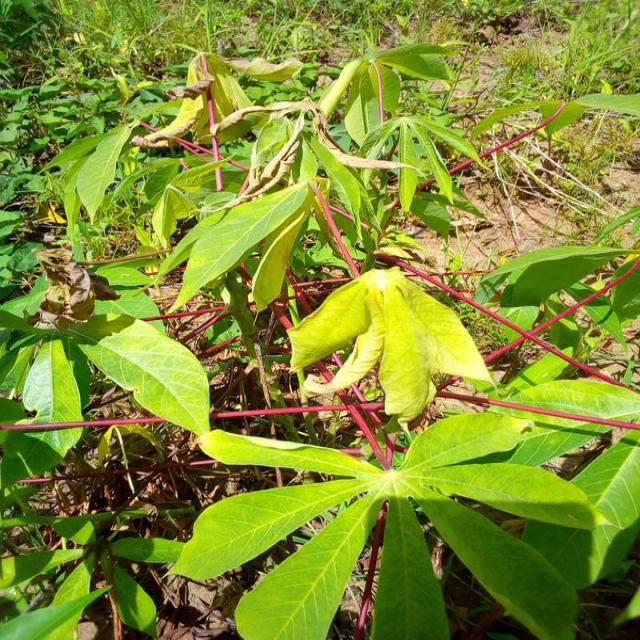cassava leaf: (286, 264, 497, 422), (162, 178, 314, 315), (78, 315, 211, 437)
